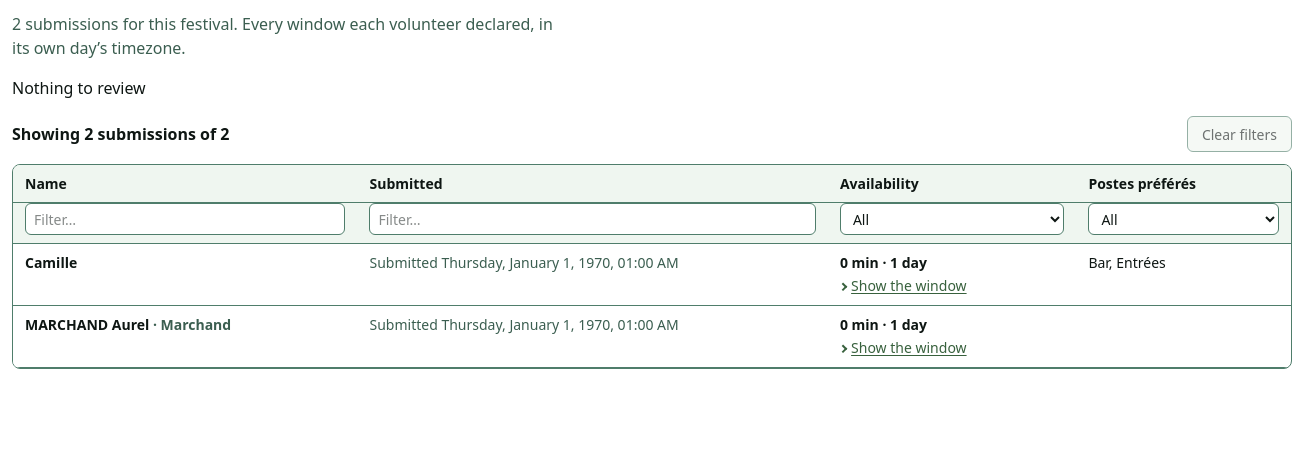
it: PlanSubmissionsView › folds the windows away until the row is opened
Click the button with class "evp-disclosure" below "Bar, Entrées" at x=903, y=285, box x1=840 y1=273 x2=967 y2=297
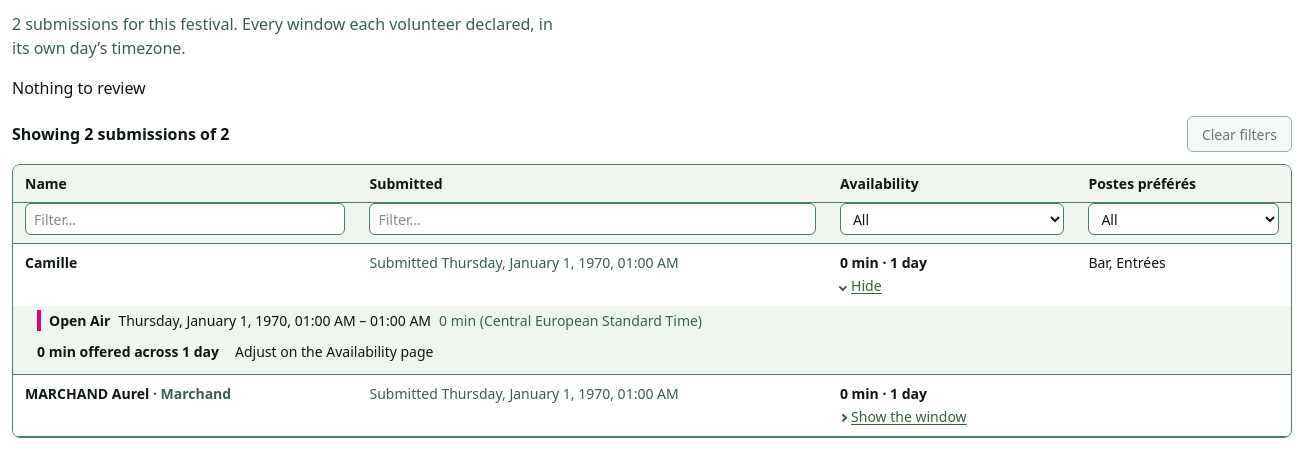
Now the button with class "evp-disclosure" is expanded, box x1=840 y1=273 x2=882 y2=297
Now the number of list items with class "evp-window" is 1, box x1=37 y1=310 x2=1279 y2=331
Now the link "Adjust on the Availability page" is shown, box x1=235 y1=341 x2=434 y2=362
